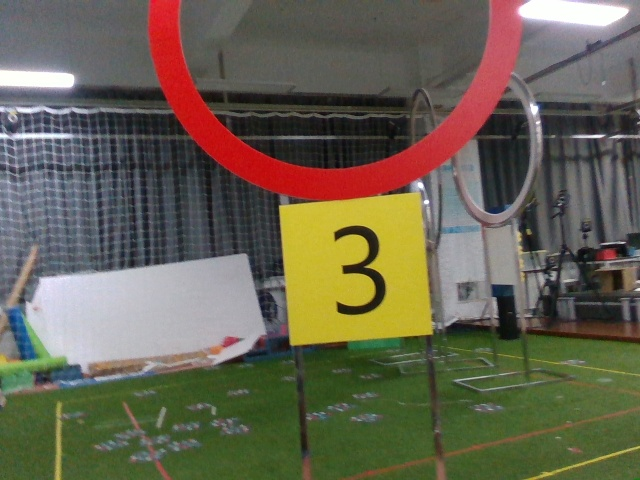target: (293, 205, 422, 337)
